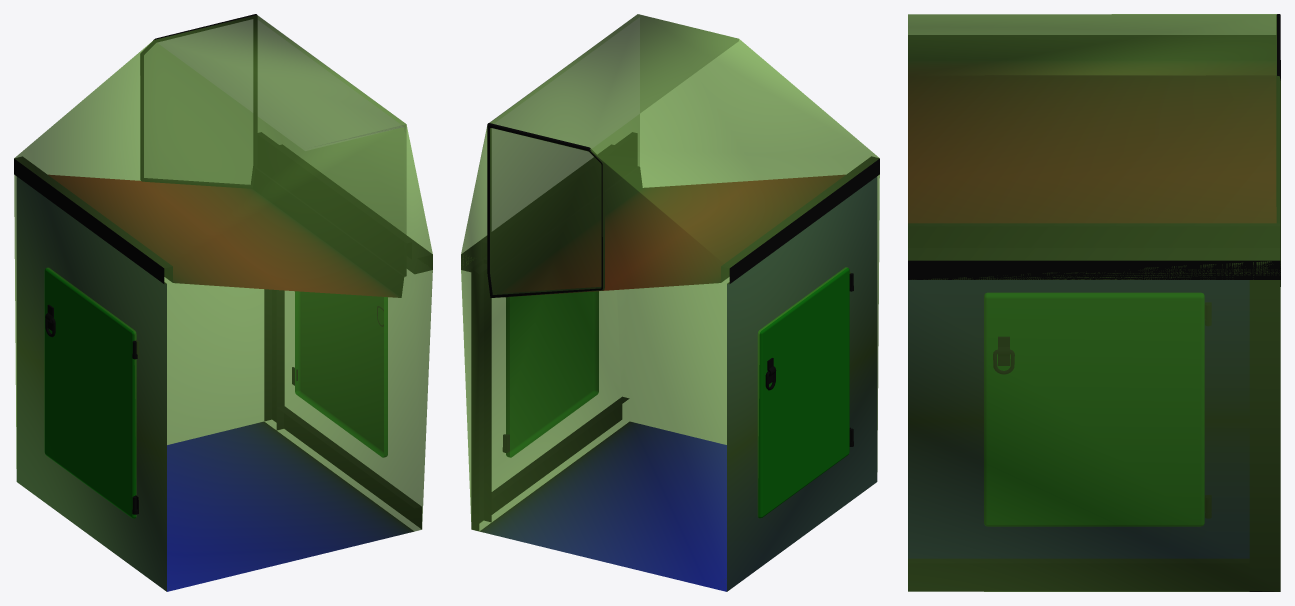
File: M_md_Stall5_1m_02_m.fbx
3 views of the same model, side by side, from view 1: azimuth 30°, elevation 25°; view 2: azimuth 150°, elevation 25°; view 3: azimuth 270°, elevation 25° (orthographic). The views are drawn at different scales.
Parts seen in each view (by area): view 1: M_md_Stall5_1m_02_m_col_01, M_md_Stall5_1m_02_m_LOD0; view 2: M_md_Stall5_1m_02_m_col_01, M_md_Stall5_1m_02_m_LOD0; view 3: M_md_Stall5_1m_02_m_LOD0, M_md_Stall5_1m_02_m_col_01.
Boxes of the visible parts, <box> form: M_md_Stall5_1m_02_m_col_01: <box>14,15,432,591</box>; M_md_Stall5_1m_02_m_LOD0: <box>14,14,432,591</box>; M_md_Stall5_1m_02_m_col_01: <box>461,14,879,591</box>; M_md_Stall5_1m_02_m_LOD0: <box>461,14,879,591</box>; M_md_Stall5_1m_02_m_LOD0: <box>908,14,1280,591</box>; M_md_Stall5_1m_02_m_col_01: <box>908,14,1280,591</box>.
Size of what is drawn, in the model's own units: 105 by 150 by 100.
